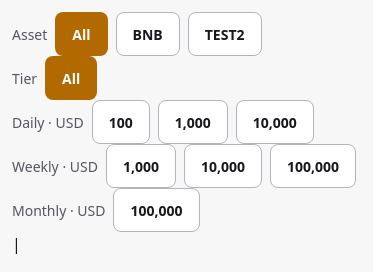
Test: filter chips › keeps the two tiers that share a target independently selectable
The image size is (373, 272).
Click the button named "Daily · USD 1,000" at (193, 122), box [158,100,228,144]
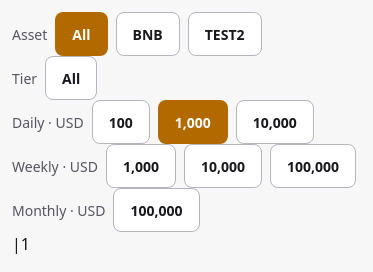
Expected: the text with test id "state" reads "|1", [12,233,30,255]
Click the button named "Weekly · USD 1,000" at (141, 166), box [106,144,176,188]
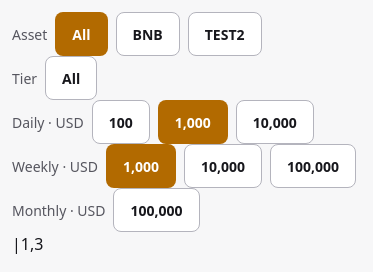
Expected: the text with test id "state" reads "|1,3", [12,233,43,255]
